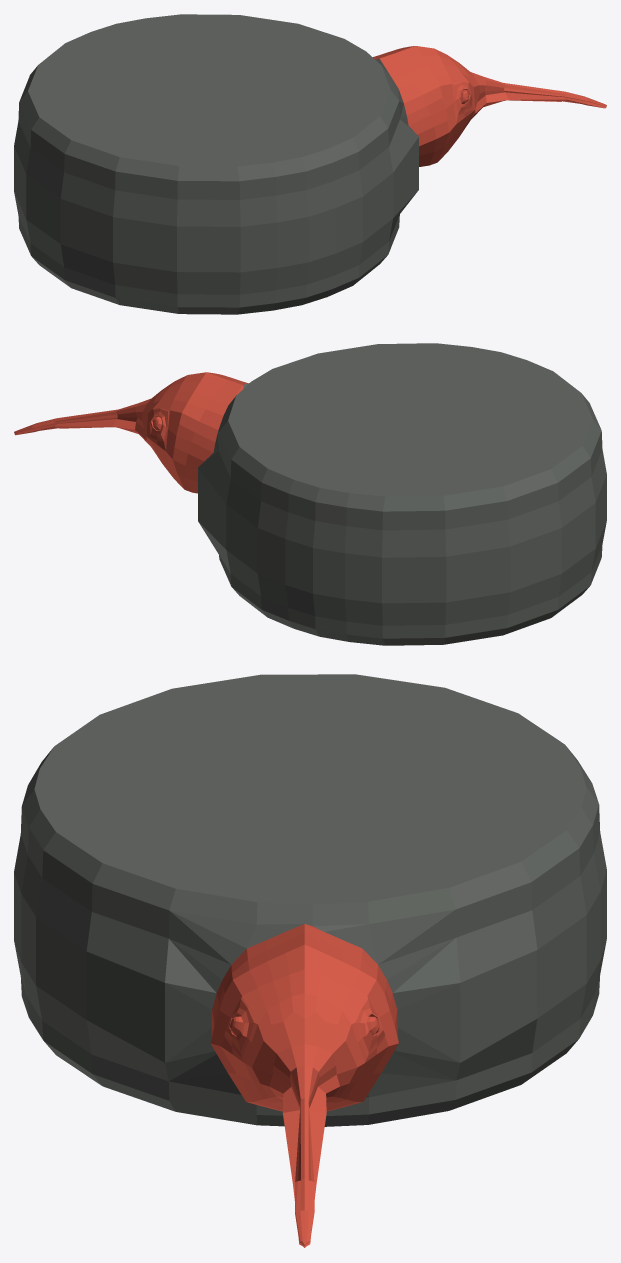
Rendered from huml_head.fbx.
3 views of the same model, one above another, from view 1: azimuth 30°, elevation 25°; view 2: azimuth 150°, elevation 25°; view 3: azimuth 270°, elevation 25° (orthographic). The views are drawn at different scales.
Parts seen in each view (by area): view 1: humhead; view 2: humhead; view 3: humhead.
Part boxes in pixels (x1,y1,x2,y2): humhead: [14, 14, 606, 314]; humhead: [14, 343, 606, 645]; humhead: [14, 674, 606, 1247].
Bounding box in the file's own units: 1234 × 310 × 747.
